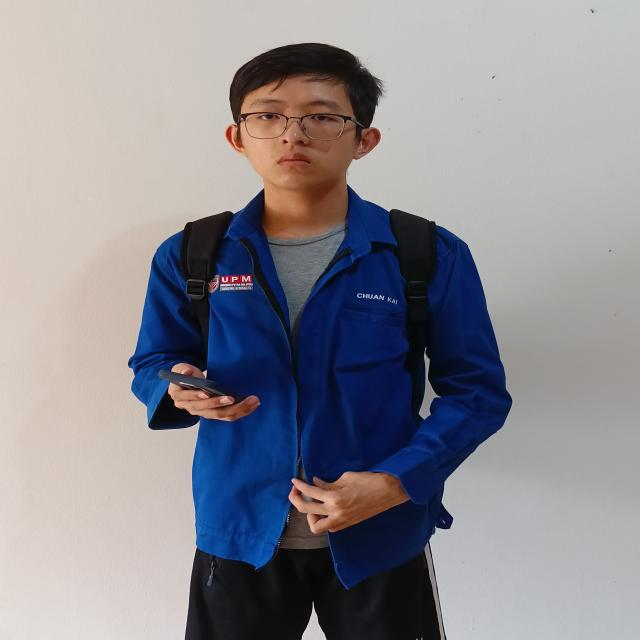person_with_labcoat: (129, 43, 511, 640)
